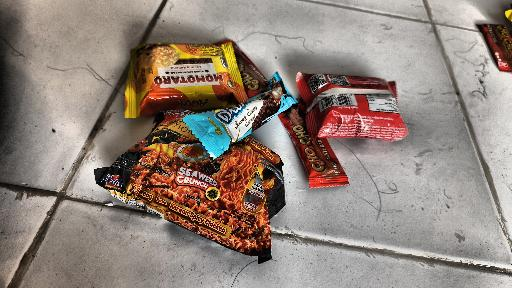chocho: (275, 97, 350, 191), (227, 40, 270, 96)
dilan: (181, 94, 311, 157)
mie sedap: (96, 111, 297, 268)
momotaro: (123, 41, 247, 115), (297, 69, 409, 147)
